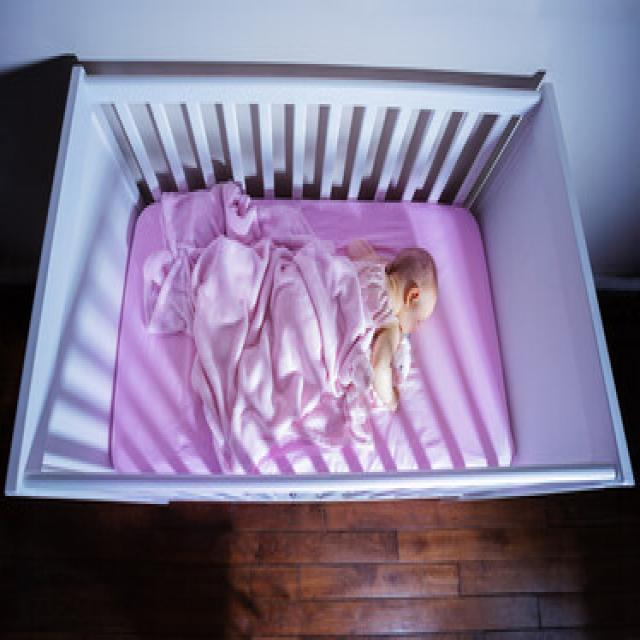baby: (151, 202, 441, 418)
crib: (2, 56, 635, 509)
